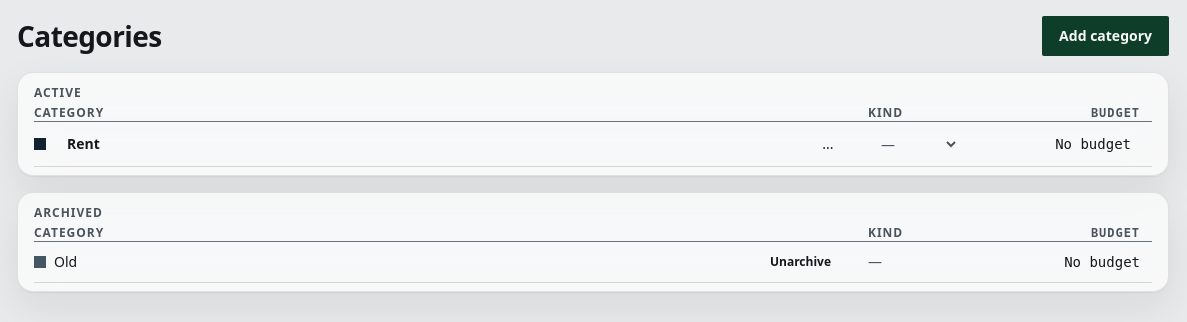
it: CategoriesView inline edits › saves  as no budget
Click the button with aria-label "Budget for Rent" at (1076, 144), box [1012,122,1140,166]
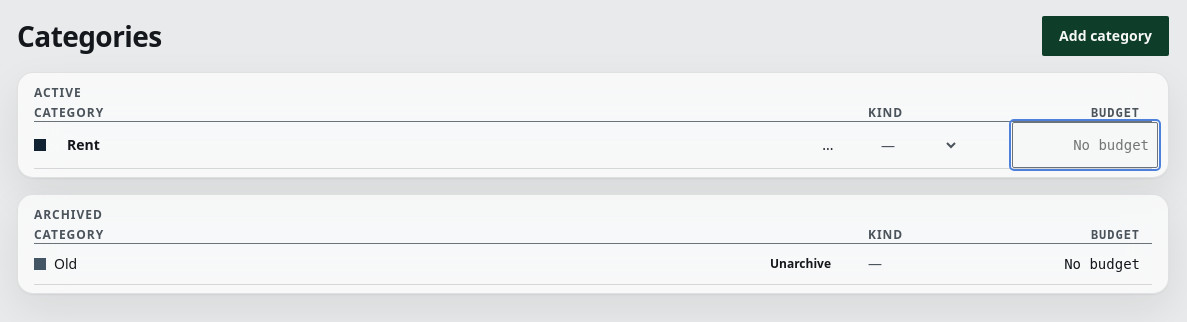
Press Enter in the field named "Budget for Rent", box [1012,122,1158,168]
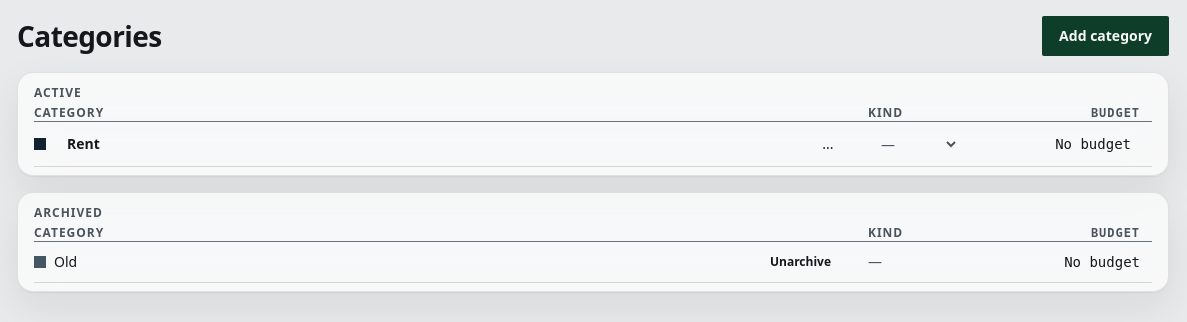
expect the button with aria-label "Budget for Rent" reads "No budget": met, box [1012,122,1140,166]
